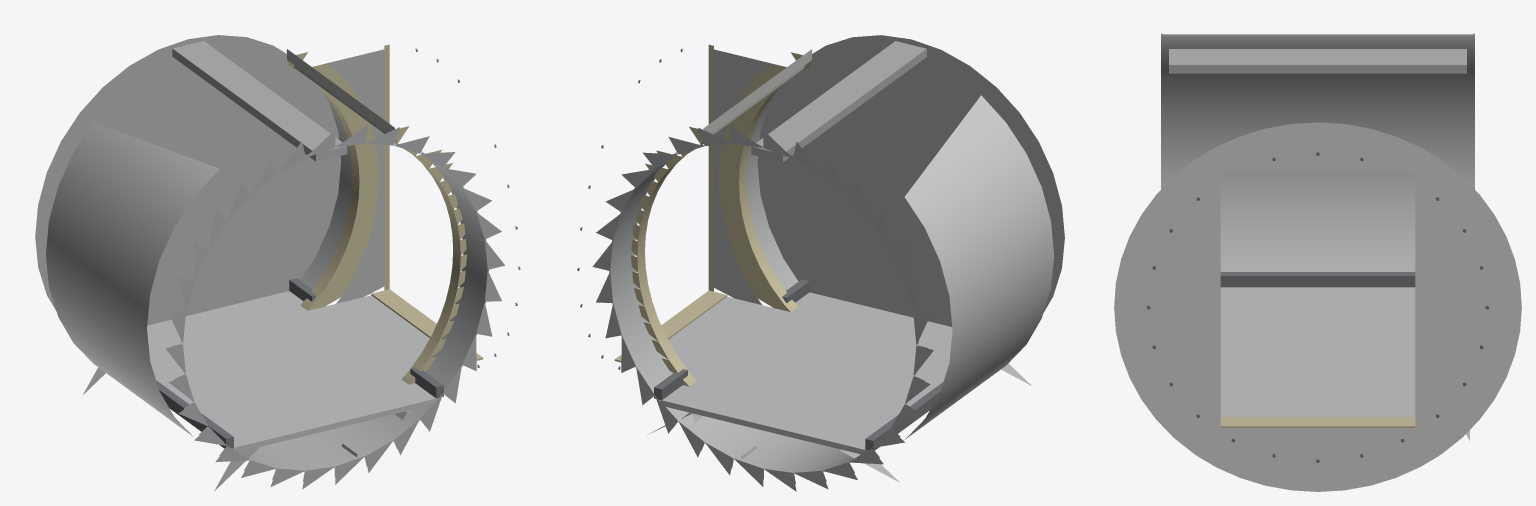
Rendered from habSegJRbf_steel_meshin.glb.
3 renders of one model, left to right at view 1: azimuth 30°, elevation 25°; view 2: azimuth 150°, elevation 25°; view 3: azimuth 270°, elevation 25°, orthographic. The views are drawn at different scales.
Parts seen in each view (by area): view 1: habSegJRbf_steel_meshin; view 2: habSegJRbf_steel_meshin; view 3: habSegJRbf_steel_meshin.
Part boxes in pixels (left/top/right/bottom): habSegJRbf_steel_meshin: left=35, top=35, right=520, bottom=491; habSegJRbf_steel_meshin: left=577, top=35, right=1064, bottom=491; habSegJRbf_steel_meshin: left=1114, top=33, right=1521, bottom=491.
Size of the model in its own units: 2.66 by 2.6 by 2.6.
